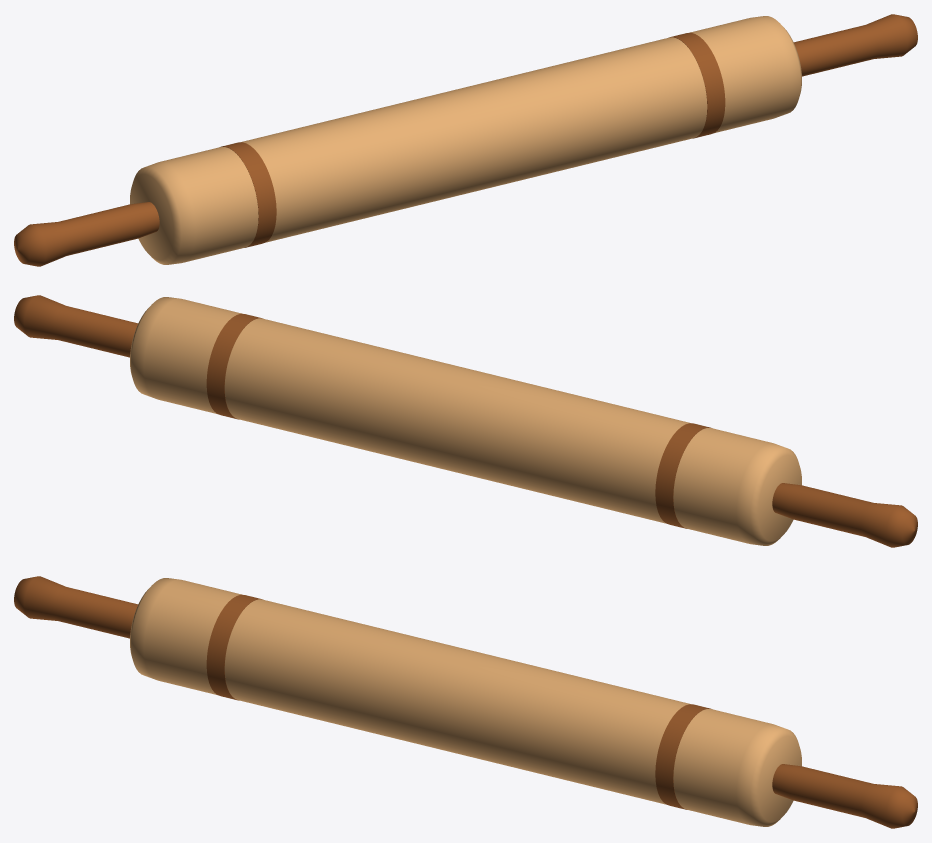
The model's file is pin.glb.
3 renders of one model, top to bottom at view 1: azimuth 30°, elevation 25°; view 2: azimuth 150°, elevation 25°; view 3: azimuth 330°, elevation 25°, orthographic.
Parts seen in each view (by area): view 1: Drum, Handle-1, Handle1; view 2: Drum, Handle-1, Handle1; view 3: Drum, Handle1, Handle-1.
Boxes of the visible parts, left/top/right/bottom form: Drum: left=130, top=16, right=801, bottom=264; Handle-1: left=14, top=202, right=159, bottom=266; Handle1: left=793, top=14, right=917, bottom=76; Drum: left=130, top=297, right=801, bottom=545; Handle-1: left=772, top=483, right=917, bottom=547; Handle1: left=14, top=295, right=138, bottom=357; Drum: left=130, top=578, right=801, bottom=826; Handle1: left=772, top=764, right=917, bottom=828; Handle-1: left=14, top=576, right=138, bottom=638.
Size of the model in its own units: 2 by 0.201 by 0.201.
